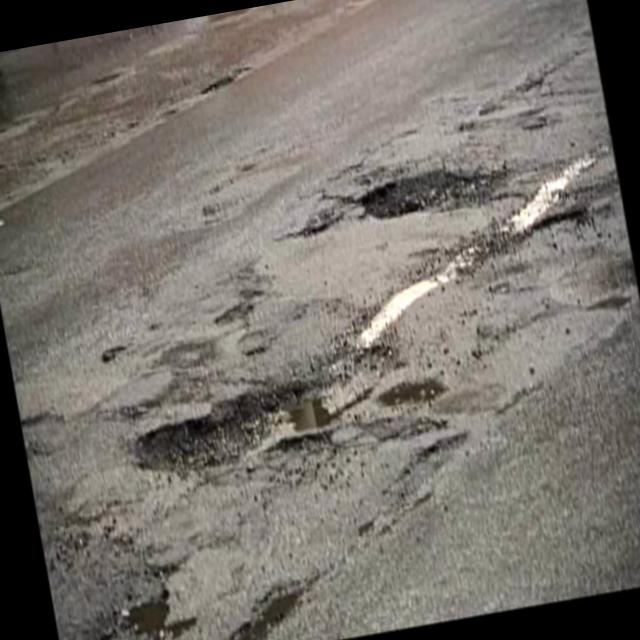Potholes: (97, 324, 426, 514), (25, 447, 319, 640), (328, 130, 520, 240)
